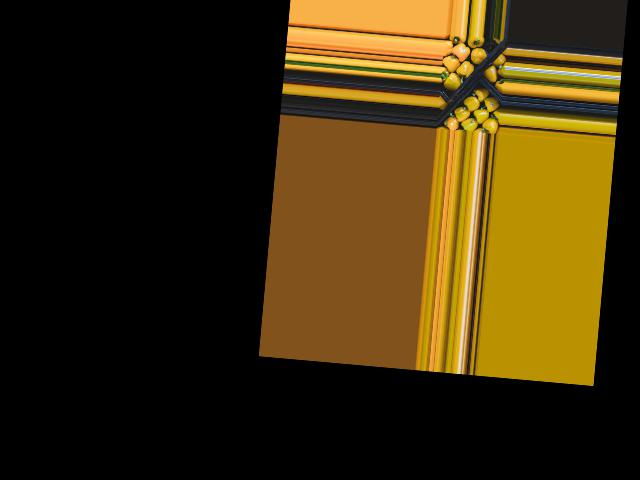bell_pepper: (483, 114, 501, 134)
